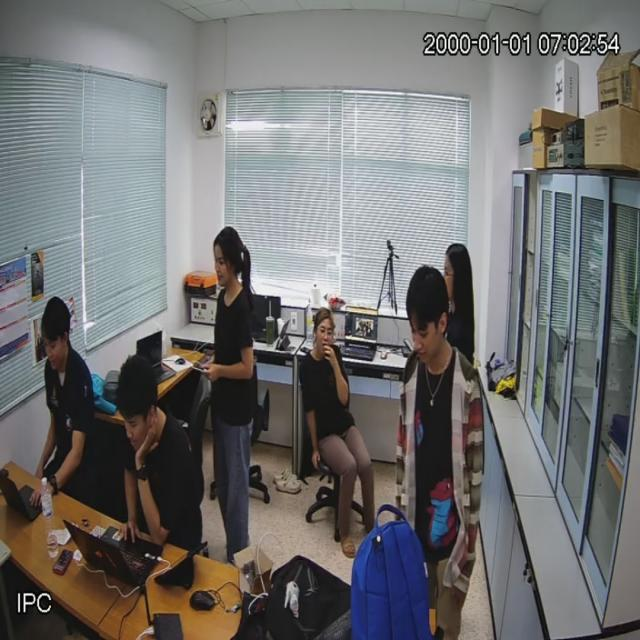normal: (393, 250, 485, 640), (206, 220, 263, 612), (298, 291, 376, 569), (109, 350, 204, 556), (34, 292, 95, 508)
